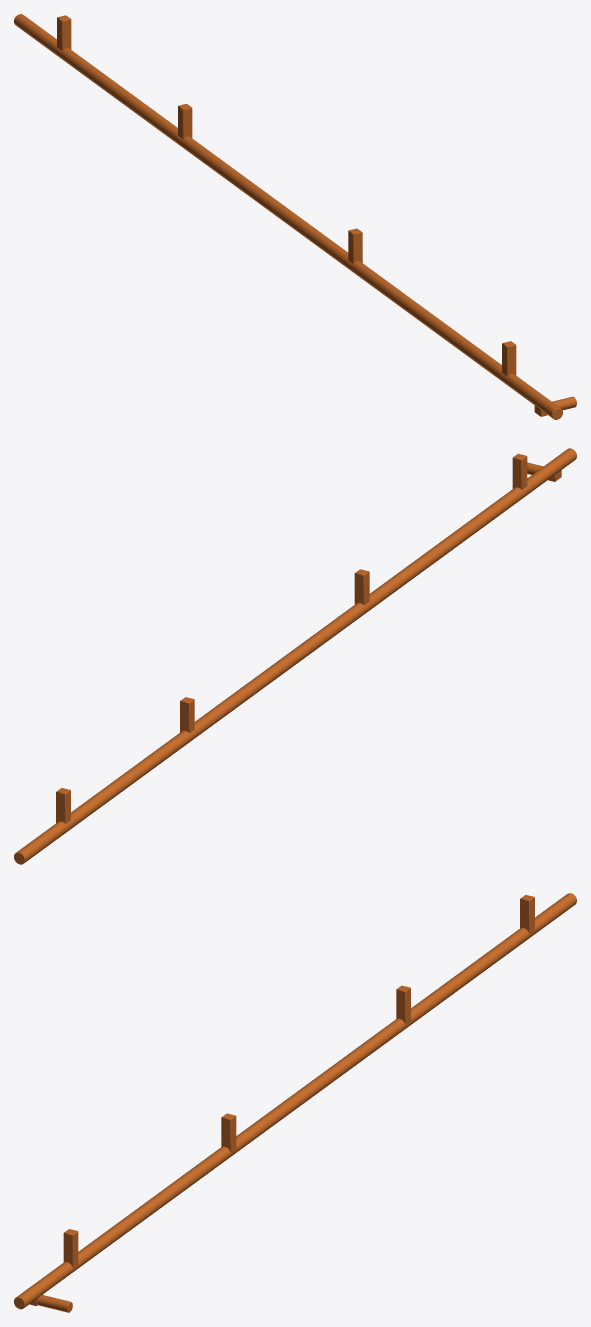
The model's file is sorter_infeed_stop.glb.
3 views of the same model, one above another, from view 1: azimuth 30°, elevation 25°; view 2: azimuth 150°, elevation 25°; view 3: azimuth 330°, elevation 25° (orthographic). The views are drawn at different scales.
Parts seen in each view (by area): view 1: InfeedStop; view 2: InfeedStop; view 3: InfeedStop.
Boxes of the visible parts, x1,y1,x2,y2 form: InfeedStop: (14,14,576,419); InfeedStop: (14,448,576,864); InfeedStop: (14,893,576,1312).
Size of the model in its own units: 0.2042 by 0.235 by 4.9.
